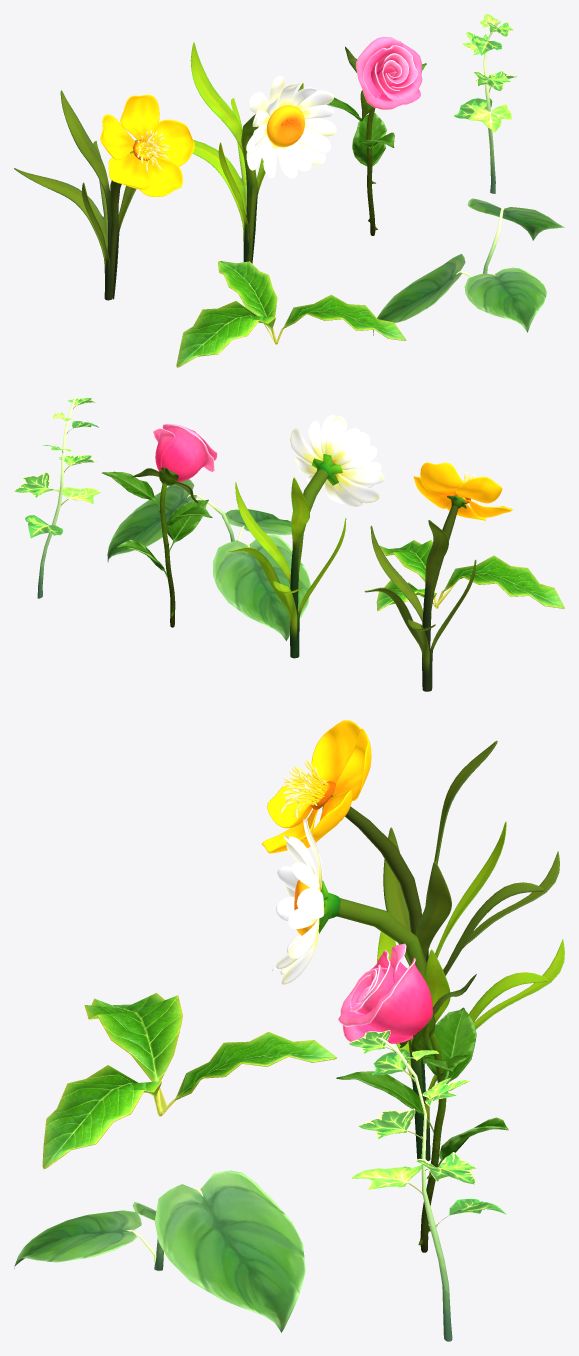
File: plant-pack-webp.glb
3 views of the same model, one above another, from view 1: azimuth 30°, elevation 25°; view 2: azimuth 150°, elevation 25°; view 3: azimuth 270°, elevation 25° (orthographic). The views are drawn at different scales.
Visible parts, largest first — view 1: Object_6, Object_5, Object_7, Object_4, Object_2, Object_3; view 2: Object_5, Object_7, Object_6, Object_2, Object_4, Object_3; view 3: Object_7, Object_6, Object_4, Object_5, Object_2, Object_3.
Part boxes in pixels (left/top/right/bottom): Object_6: left=14, top=90, right=194, bottom=300; Object_5: left=190, top=42, right=336, bottom=263; Object_7: left=373, top=20, right=564, bottom=335; Object_4: left=176, top=261, right=406, bottom=367; Object_2: left=327, top=36, right=426, bottom=235; Object_3: left=453, top=14, right=517, bottom=132; Object_5: left=228, top=415, right=384, bottom=658; Object_7: left=37, top=396, right=310, bottom=640; Object_6: left=364, top=462, right=512, bottom=691; Object_2: left=102, top=424, right=217, bottom=627; Object_4: left=376, top=540, right=564, bottom=610; Object_3: left=14, top=397, right=100, bottom=538; Object_7: left=14, top=1037, right=452, bottom=1341; Object_6: left=262, top=720, right=559, bottom=1056; Object_4: left=42, top=993, right=336, bottom=1169; Object_5: left=271, top=819, right=564, bottom=1161; Object_2: left=336, top=943, right=508, bottom=1252; Object_3: left=348, top=1030, right=506, bottom=1225.
Size of the model in its own units: 12.72 by 6.93 by 8.65.
Materials: 6 (6 with a texture image).
